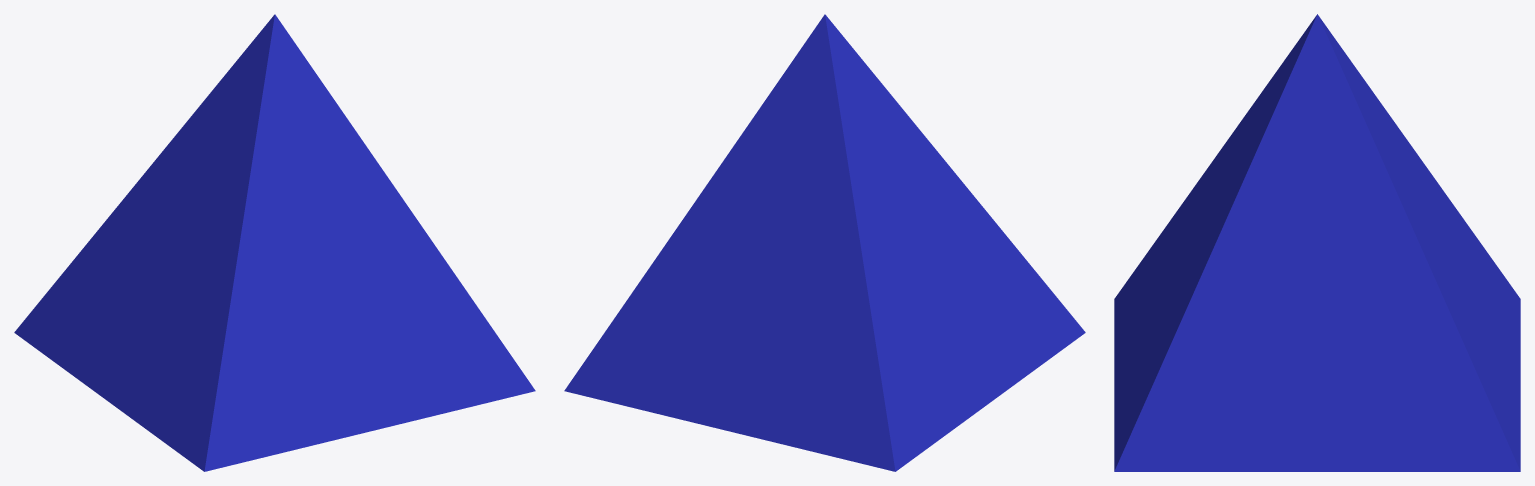
File: RedTriangle.fbx
3 views of the same model, side by side, from view 1: azimuth 30°, elevation 25°; view 2: azimuth 150°, elevation 25°; view 3: azimuth 270°, elevation 25° (orthographic). The views are drawn at different scales.
Parts seen in each view (by area): view 1: root; view 2: root; view 3: root.
Part boxes in pixels (bbox=[...]): root: bbox=[14, 14, 535, 471]; root: bbox=[564, 14, 1085, 471]; root: bbox=[1114, 14, 1520, 471].
Size of the model in its own units: 0.7427 by 0.745 by 0.7388.
